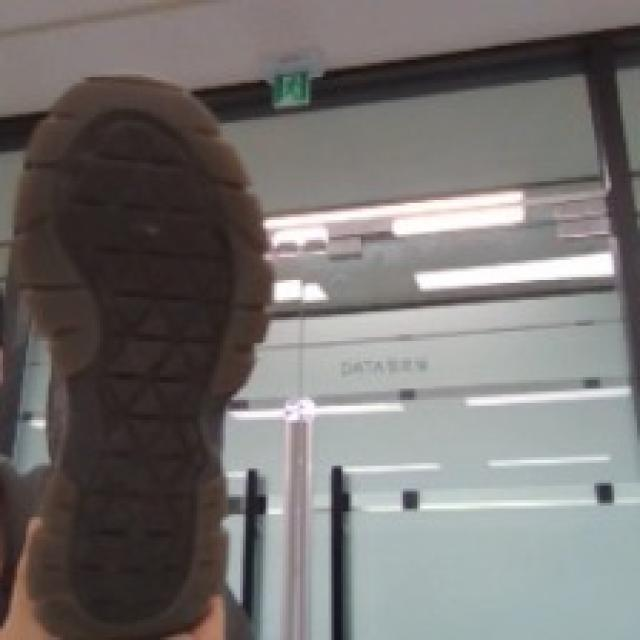shoe: (17, 34, 286, 640)
